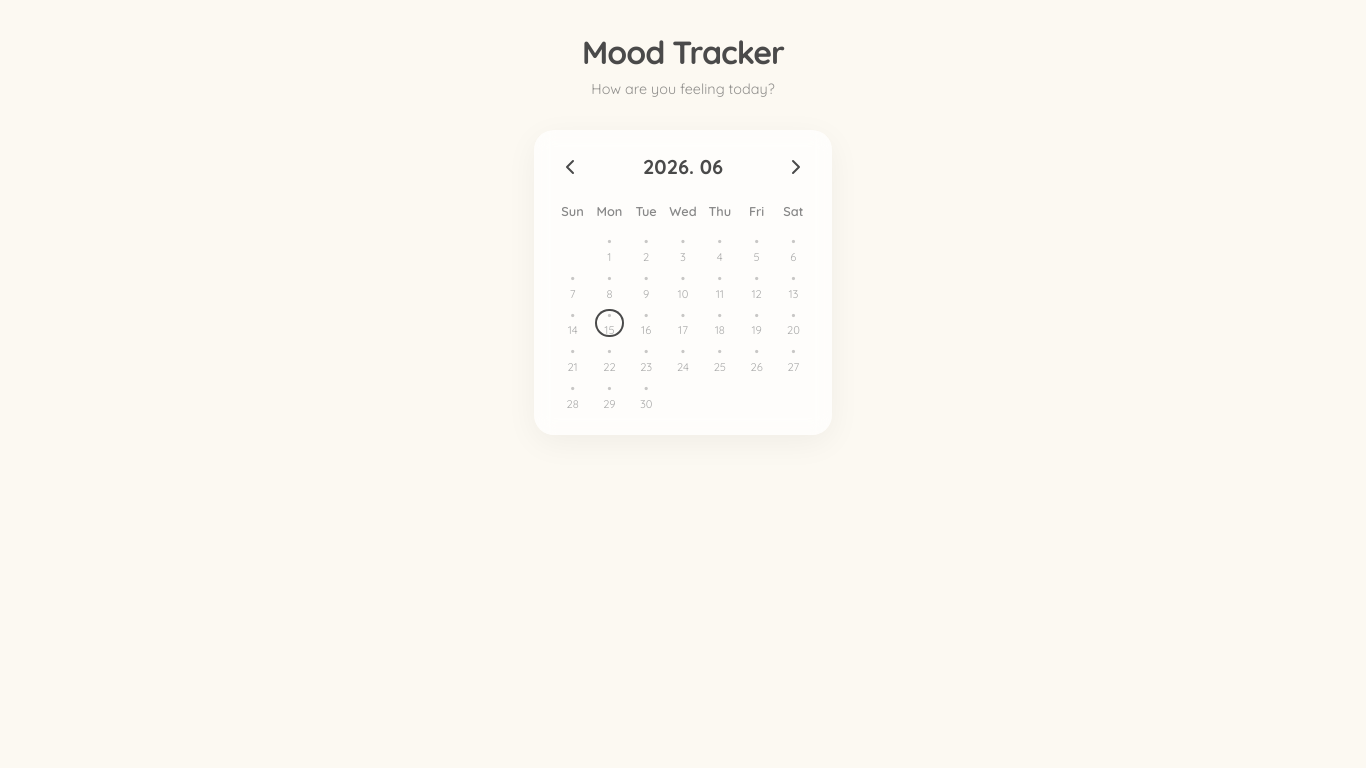
Scenario: Mood Tracker App › should allow user to record a mood and display it on the calendar
The image size is (1366, 768).
Click the element with test id "cal-cell-2026-06-15". click: (610, 324)
box: 595,309 -> 624,338
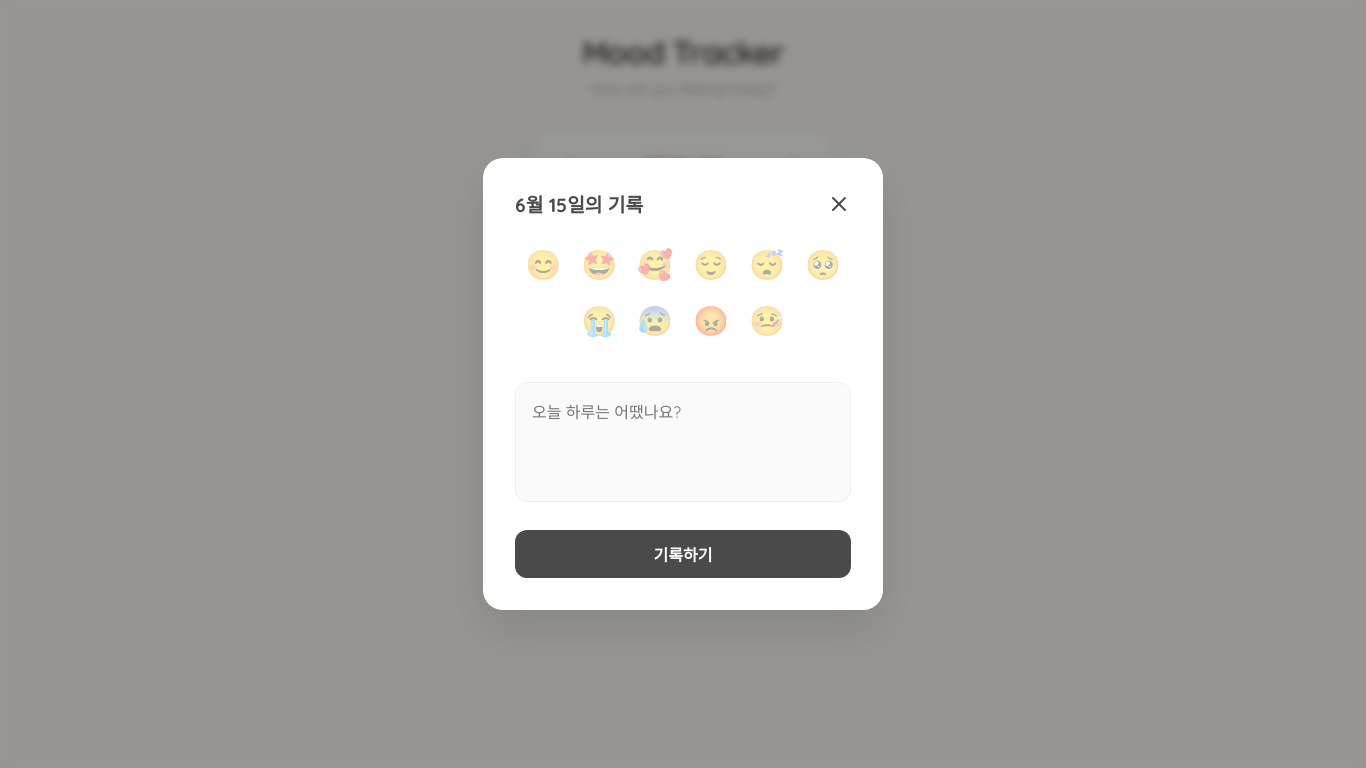
Click the button with test id "mood-btn-sad". click: (823, 264)
box: 801,242 -> 845,286
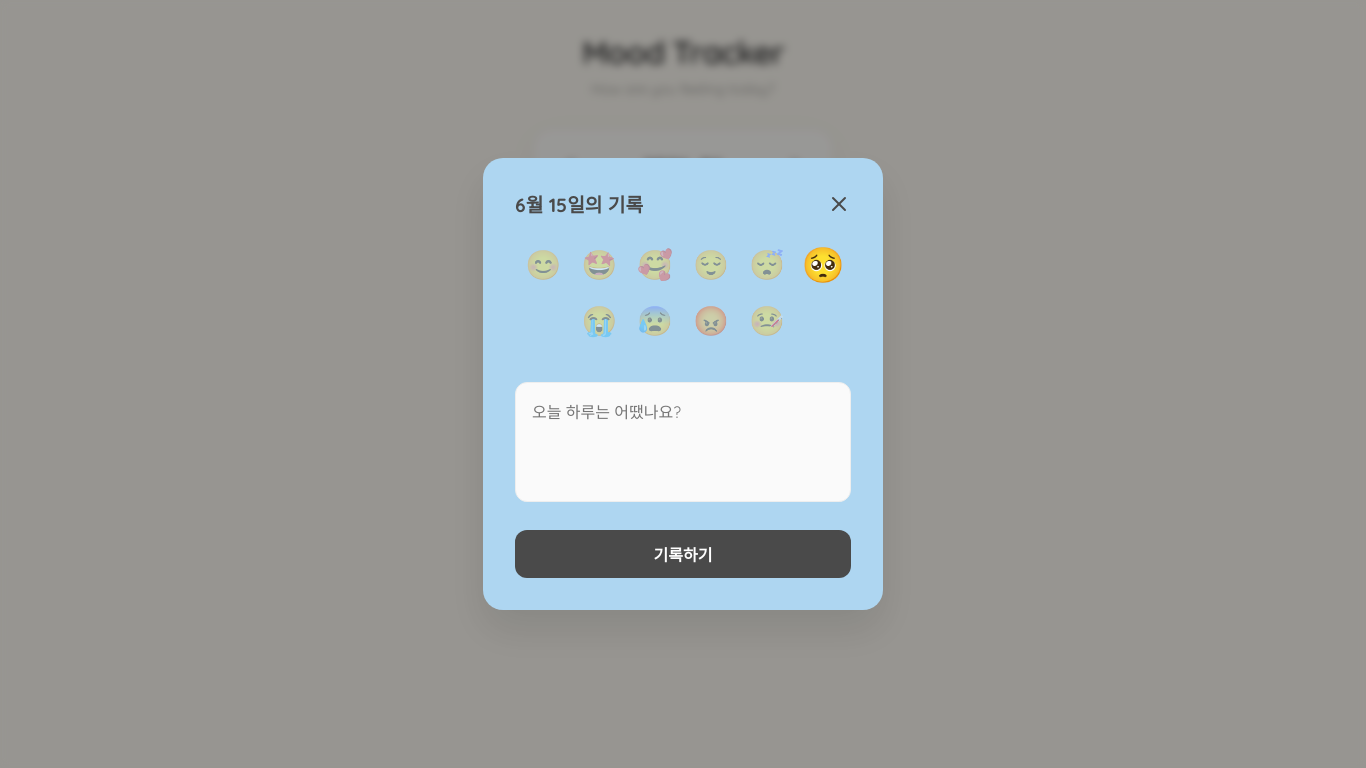
Type "It rained all day." into the text box with test id "note-input". click: (683, 442)
box: 515,382 -> 851,502
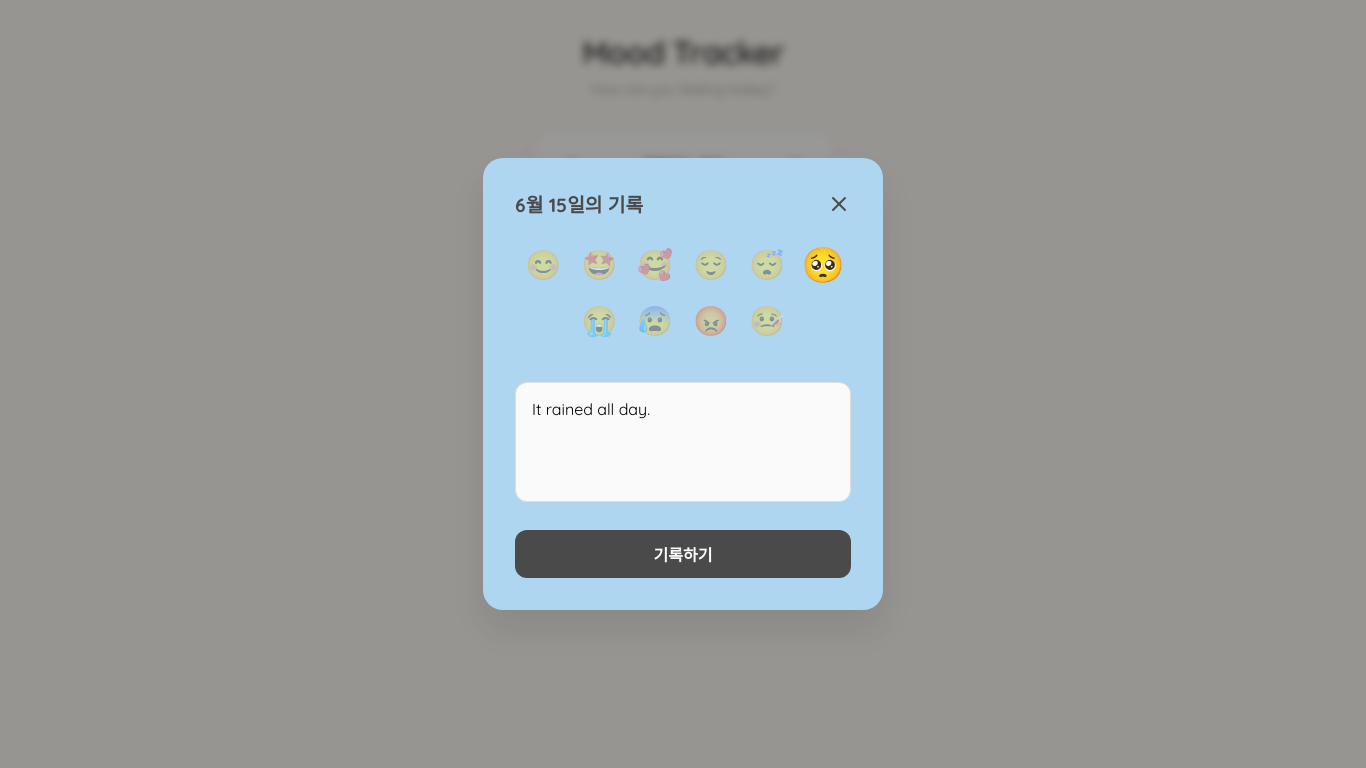
Click the button with test id "save-btn". click: (683, 554)
box: 515,530 -> 851,578
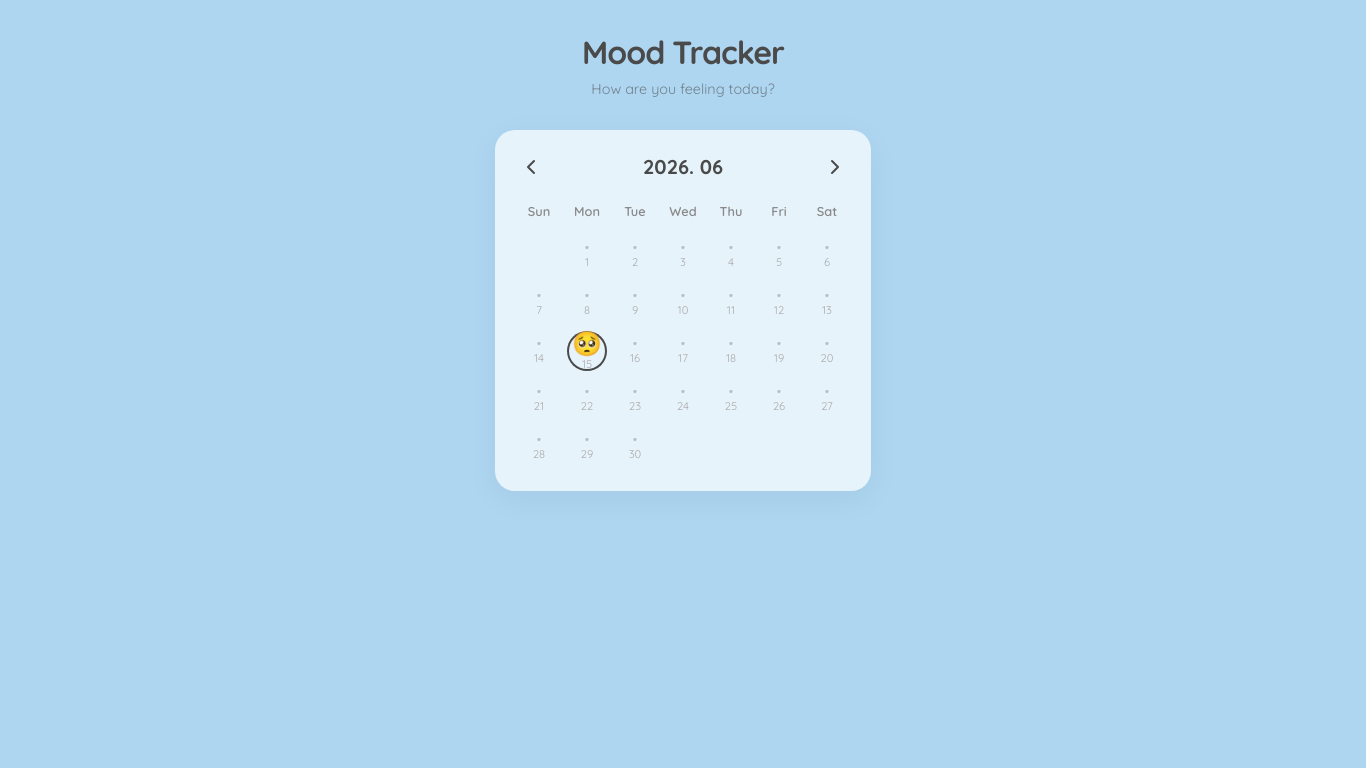
Now the text with test id "cal-cell-2026-06-15" reads "🥺", box 572,328 -> 602,358
